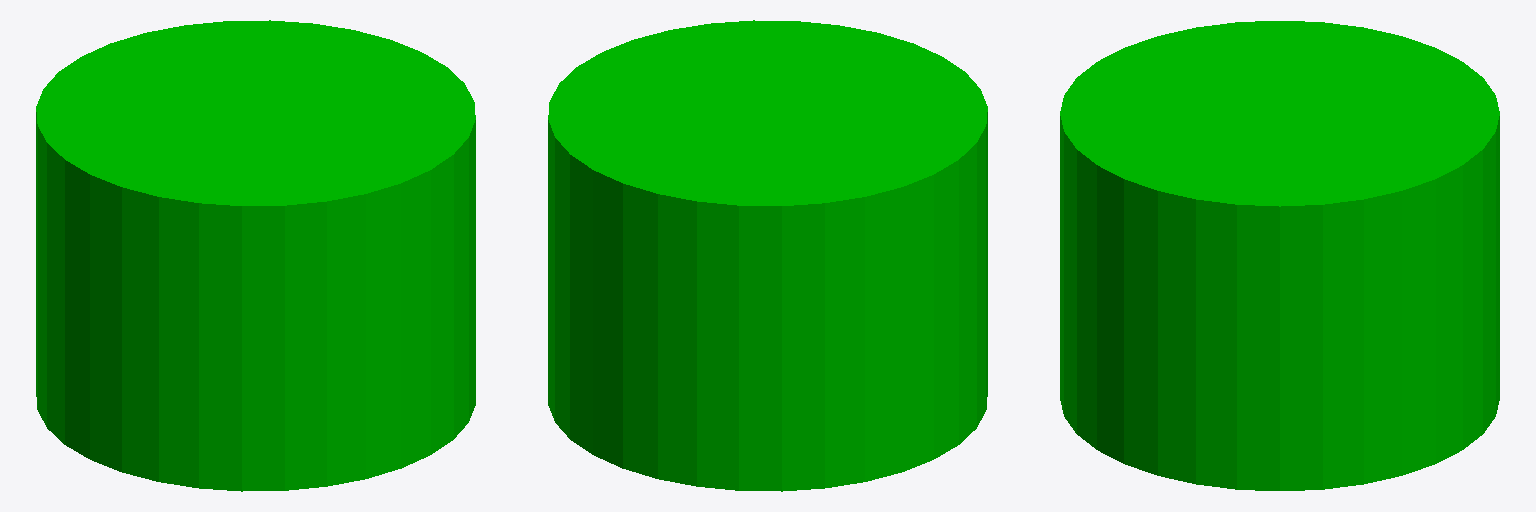
robot.urdf — disc:
<robot name="disc">
    <material name="green">
        <color rgba="0.0 0.8 0.0 1.0" />
    </material>
    <link name="base_link">
        <contact>
            <lateral_friction value="1.0" />
            <rolling_friction value="0.001" />
            <contact_cfm value="0.0" />
            <contact_erp value="1.0" />
        </contact>
        <inertial>
            <origin rpy="0 0 0" xyz="0.0 0.0 0.0" />
            <mass value=".1" />
            <inertia ixx="1" ixy="0" ixz="0" iyy="1" iyz="0" izz="1" />
        </inertial>
        <visual>
            <origin rpy="0 0 0" xyz="0 0 0" />
            <geometry>
                <cylinder length="0.005" radius="0.0035" />
            </geometry>
            <material name="green" />
        </visual>
        <collision>
            <origin rpy="0 0 0" xyz="0 0 0" />
            <geometry>
                <cylinder length="0.005" radius="0.0035" />
            </geometry>
        </collision>
    </link>
</robot>

--- What the picture shows (computed from the rendered views, not written in the file) ---
The picture shows the robot from 3 angles, left to right: view 1: azimuth 30°, elevation 25°; view 2: azimuth 150°, elevation 25°; view 3: azimuth 270°, elevation 25°; orthographic projection.
Model disc with 1 links and 0 joints (none), rooted at base_link, posed every joint at zero.
Visible links, largest first — view 1: base_link; view 2: base_link; view 3: base_link.
Boxes of the visible links, bbox=[...] form: base_link: bbox=[36, 20, 475, 491]; base_link: bbox=[548, 20, 987, 491]; base_link: bbox=[1060, 21, 1499, 490].
Size in the robot's own frame: 0.007 by 0.007 by 0.005 metres.
Geometry: primitives only (box / cylinder / sphere), no mesh files.